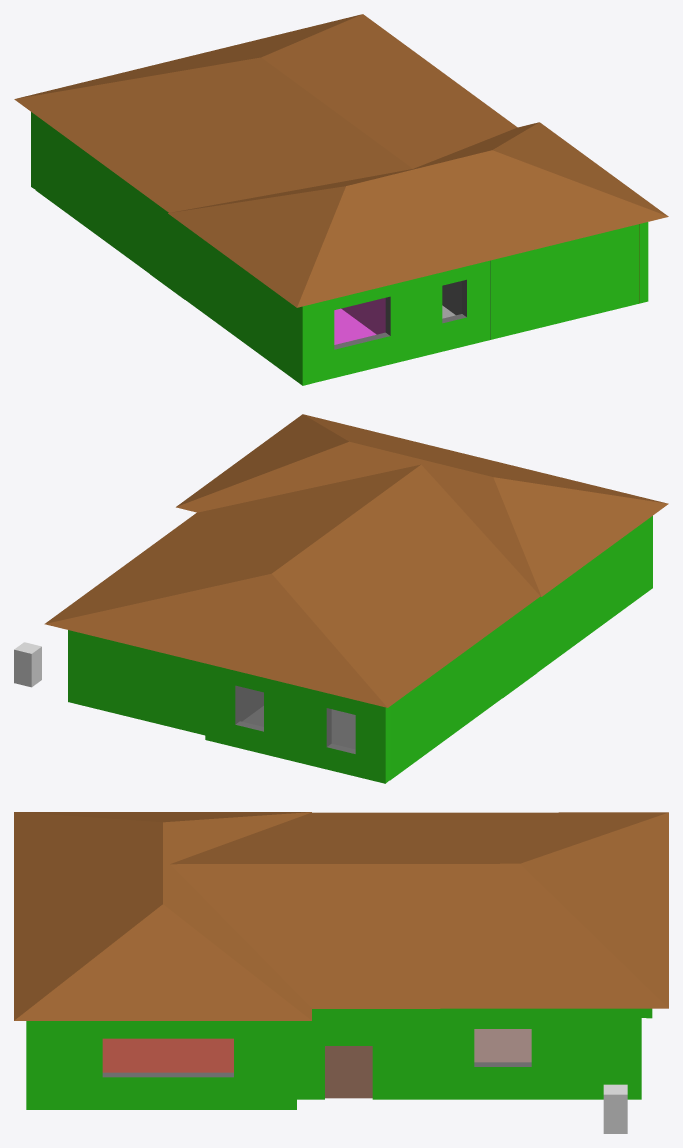
The model's file is HouseGreybox-noDoor.fbx.
The picture shows the model from 3 angles, top to bottom: view 1: azimuth 30°, elevation 25°; view 2: azimuth 150°, elevation 25°; view 3: azimuth 270°, elevation 25°; orthographic projection. The views are drawn at different scales.
Parts seen in each view (by area): view 1: Cone, Cube.004, Plane.005; view 2: Cone, Cube.004, Cube.020, Plane.005; view 3: Cone, Cube.004, Plane.005, Cube.020.
Boxes of the visible parts, bbox=[...] form: Cone: bbox=[14, 14, 668, 307]; Cube.004: bbox=[31, 112, 648, 385]; Plane.005: bbox=[334, 305, 455, 344]; Cone: bbox=[44, 414, 668, 707]; Cube.004: bbox=[68, 516, 652, 783]; Cube.020: bbox=[14, 642, 41, 687]; Plane.005: bbox=[242, 706, 355, 749]; Cone: bbox=[14, 812, 668, 1020]; Cube.004: bbox=[26, 1008, 652, 1109]; Plane.005: bbox=[102, 1029, 531, 1098]; Cube.020: bbox=[603, 1084, 627, 1133].
Bounding box in the file's own units: 2210 × 697 × 2726.
